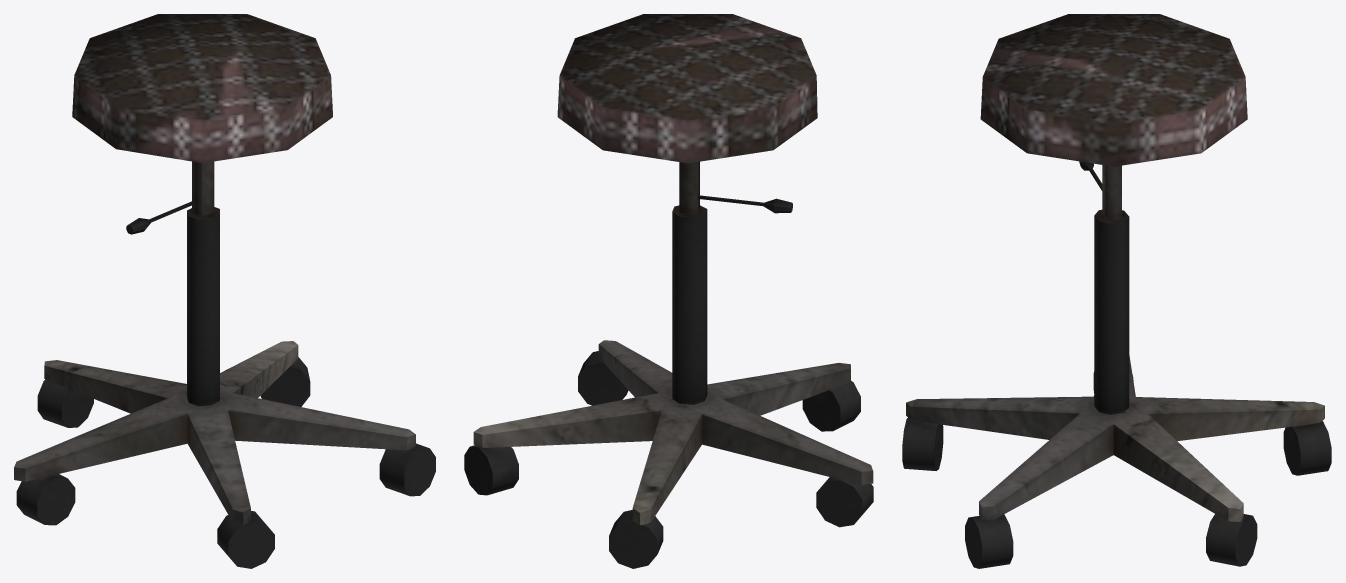
The model's file is PoserStool.FBX.
The picture shows the model from 3 angles, left to right: view 1: azimuth 30°, elevation 25°; view 2: azimuth 150°, elevation 25°; view 3: azimuth 270°, elevation 25°; orthographic projection. The views are drawn at different scales.
Visible parts, largest first — view 1: PoserStool; view 2: PoserStool; view 3: PoserStool.
Part boxes in pixels (x1,y1,x2,y2): PoserStool: (14, 14, 435, 568); PoserStool: (464, 14, 873, 568); PoserStool: (902, 14, 1331, 568).
Bounding box in the file's own units: 64.56 × 74.21 × 65.95.
